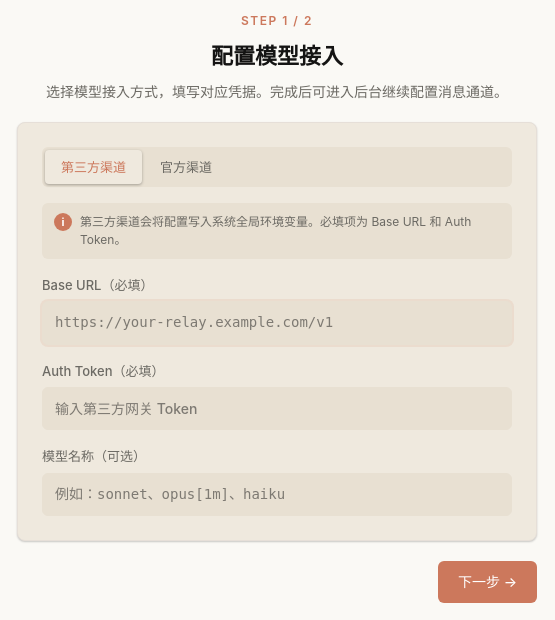
Test case: Setup Page › Step 2: Bot Creation › displays channel selector
The image size is (555, 620).
// Fill step 1 and proceed
Type "https://example.com/v1" into the field with placeholder "https://your-relay.example.com/v1". click: (277, 323)
box: [42, 301, 512, 345]
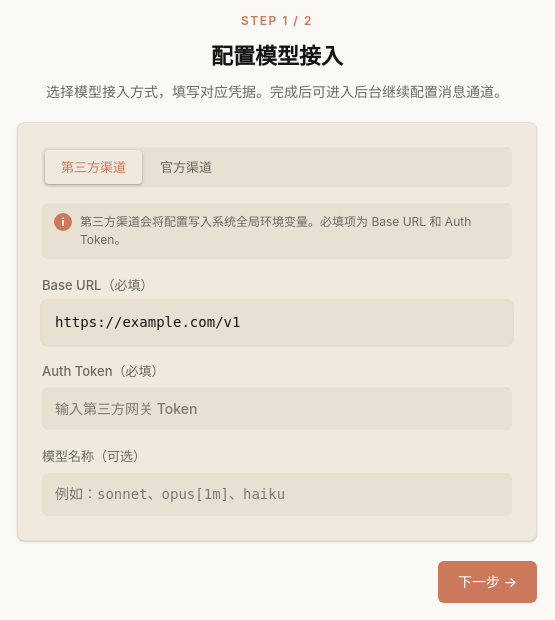
Type "test-token" into the password field with placeholder "输入第三方网关 Token". click: (277, 409)
box: [42, 387, 512, 430]
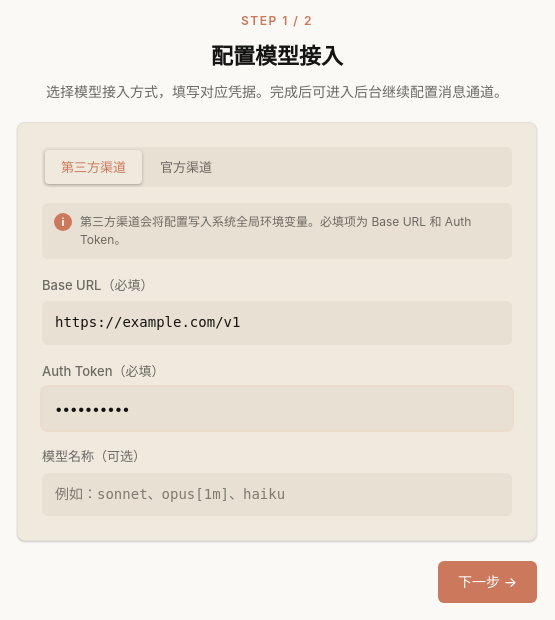
Click the button "下一步 →". click: (487, 582)
box: [438, 561, 537, 603]
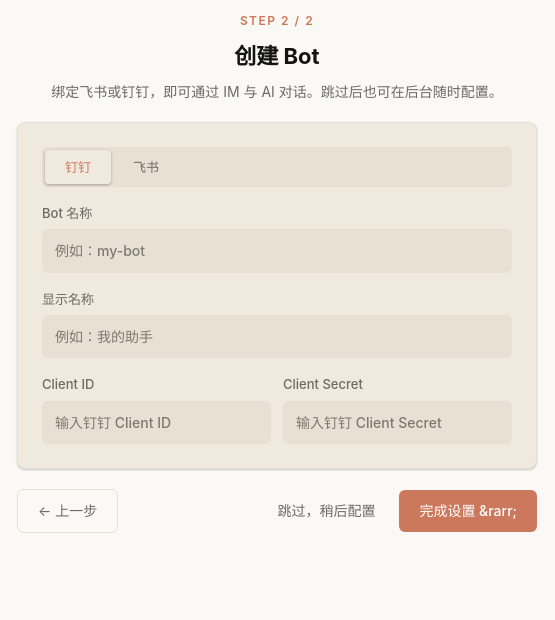
Result: the button "钉钉" is shown at [45, 150, 111, 184]
Result: the button "飞书" is shown at [113, 150, 179, 184]
